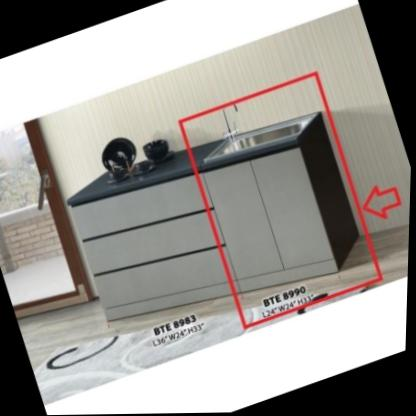Cabinet: (69, 116, 375, 350)
